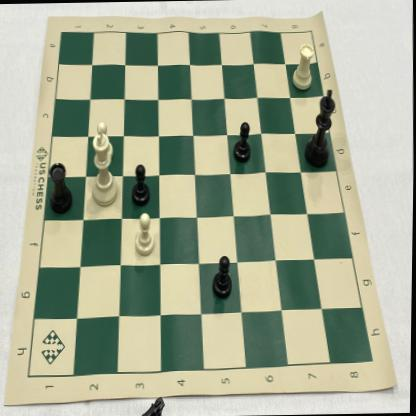black-king: (300, 82, 339, 173)
black-pawn: (207, 250, 237, 304), (229, 112, 256, 170), (127, 154, 154, 210)
black-rook: (39, 152, 76, 216)
white-king: (83, 126, 123, 210)
white-pawn: (132, 210, 161, 260), (90, 118, 118, 166)
white-rook: (288, 38, 317, 96)
